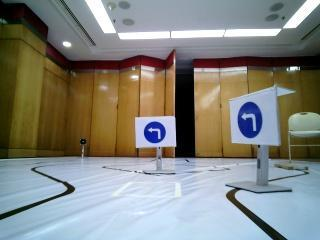left: (230, 99, 274, 142), (138, 117, 178, 148)
